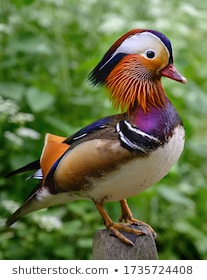duck: (9, 24, 199, 254)
